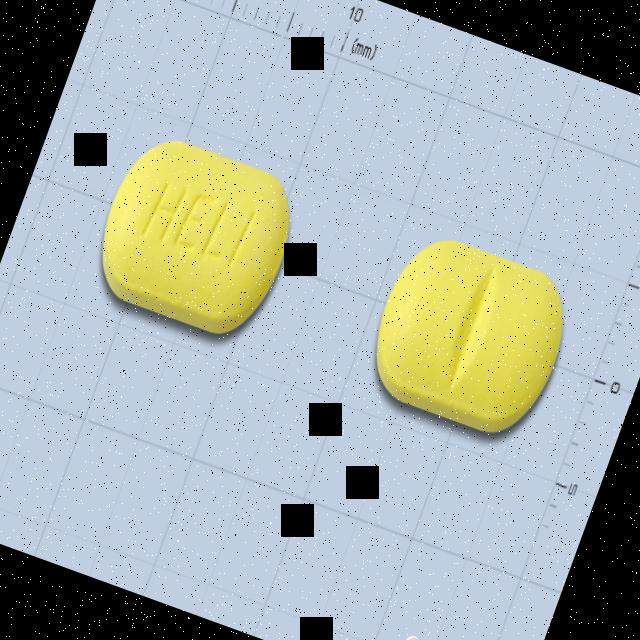Helico: (82, 126, 310, 349)
